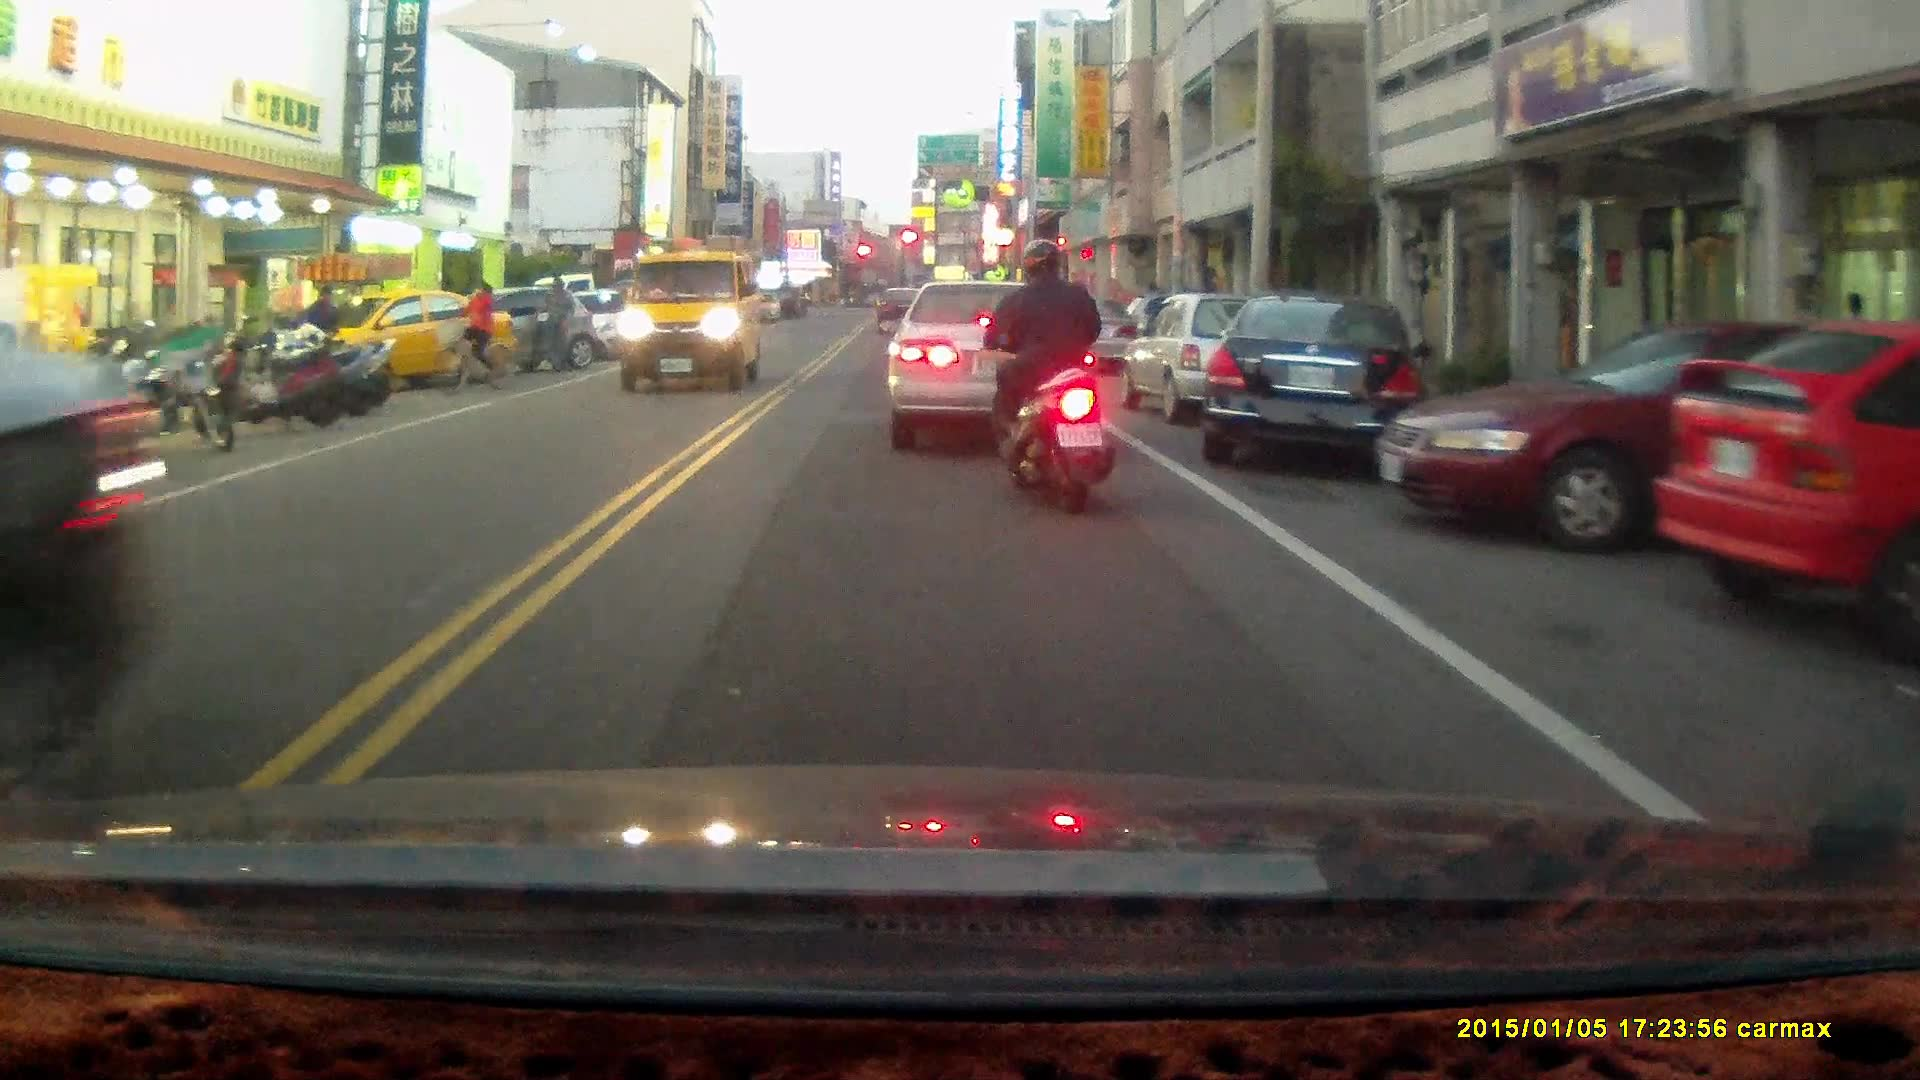pedestrian: (541, 273, 577, 373), (302, 283, 340, 372)
rider: (970, 233, 1120, 517), (431, 278, 513, 399)
vehicle: (1389, 313, 1865, 557), (1658, 317, 1920, 642), (1, 335, 172, 770), (1198, 291, 1432, 469), (891, 270, 1101, 437), (1115, 290, 1308, 428), (617, 241, 761, 392), (331, 288, 521, 387)
